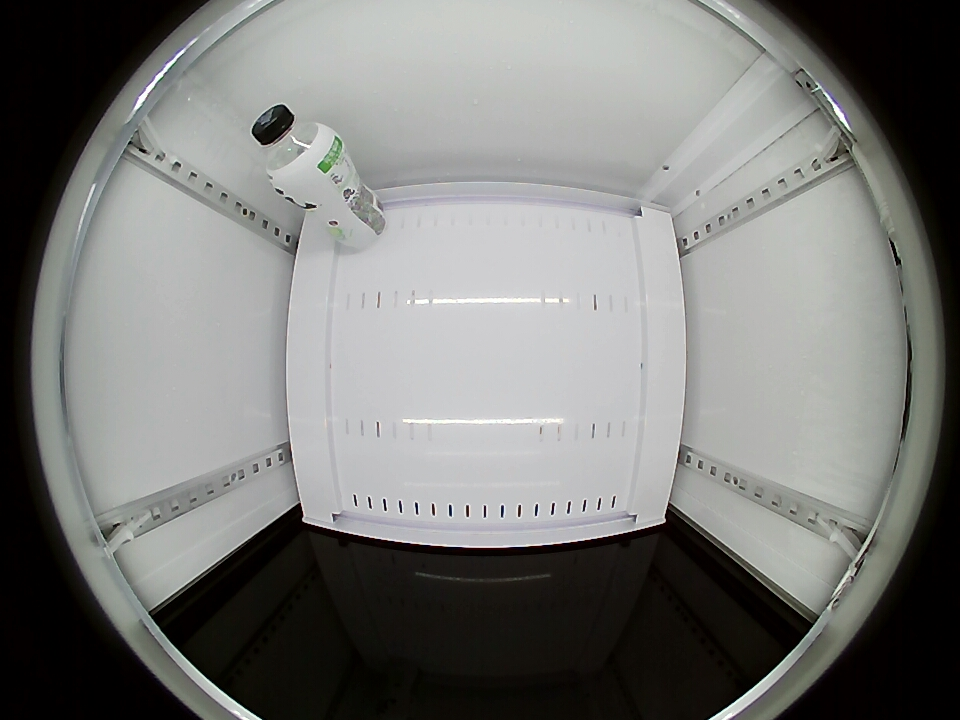yuanqishui: (251, 104, 343, 197)
